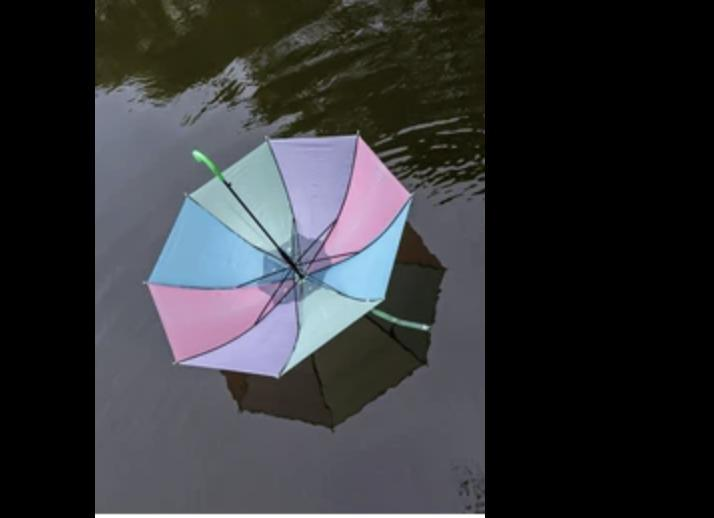Umbrella: (148, 132, 416, 378)
